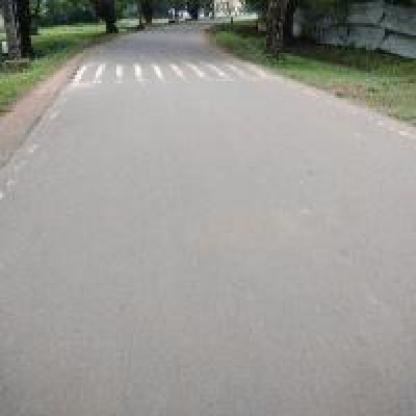Speed Bump: (73, 56, 256, 90)
